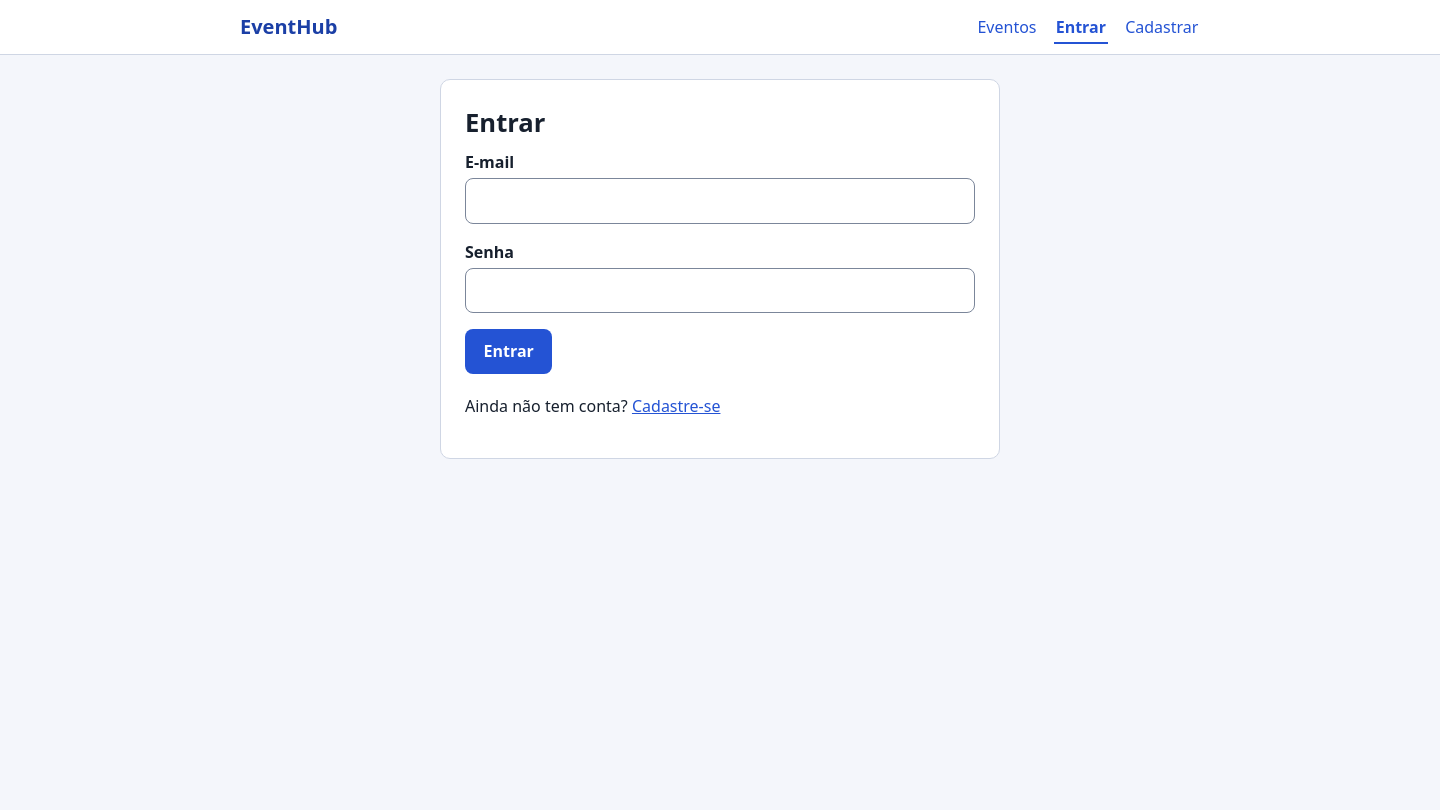
it: Administração de usuários › nega o pedido pendente: envia approved=false
This screenshot has width=1440, height=810.
Type "maria@example.com" into the field labelled "E-mail" at (720, 201), box x1=465 y1=178 x2=975 y2=224
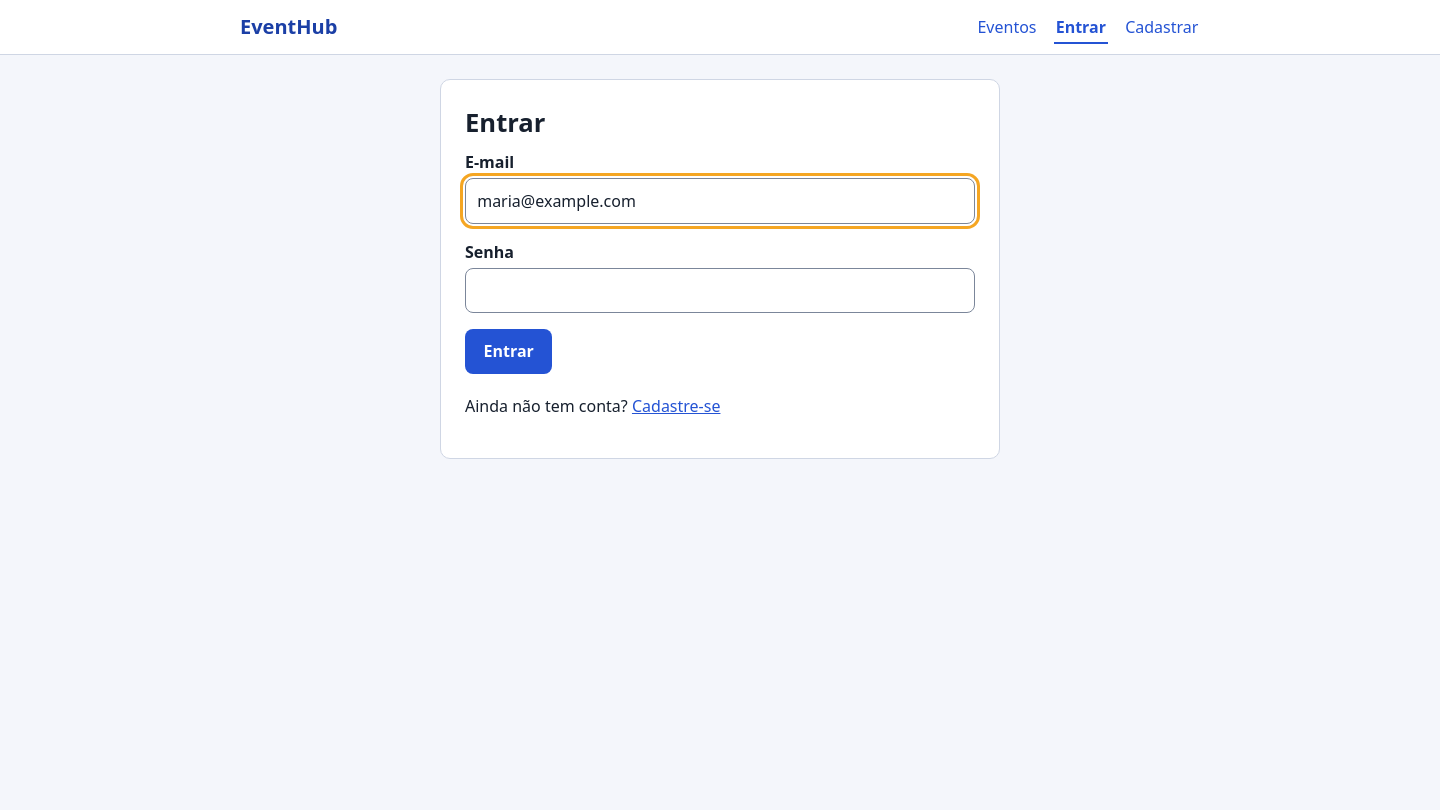
Type "senha-forte-123" into the password field labelled "Senha" at (720, 290), box x1=465 y1=268 x2=975 y2=313
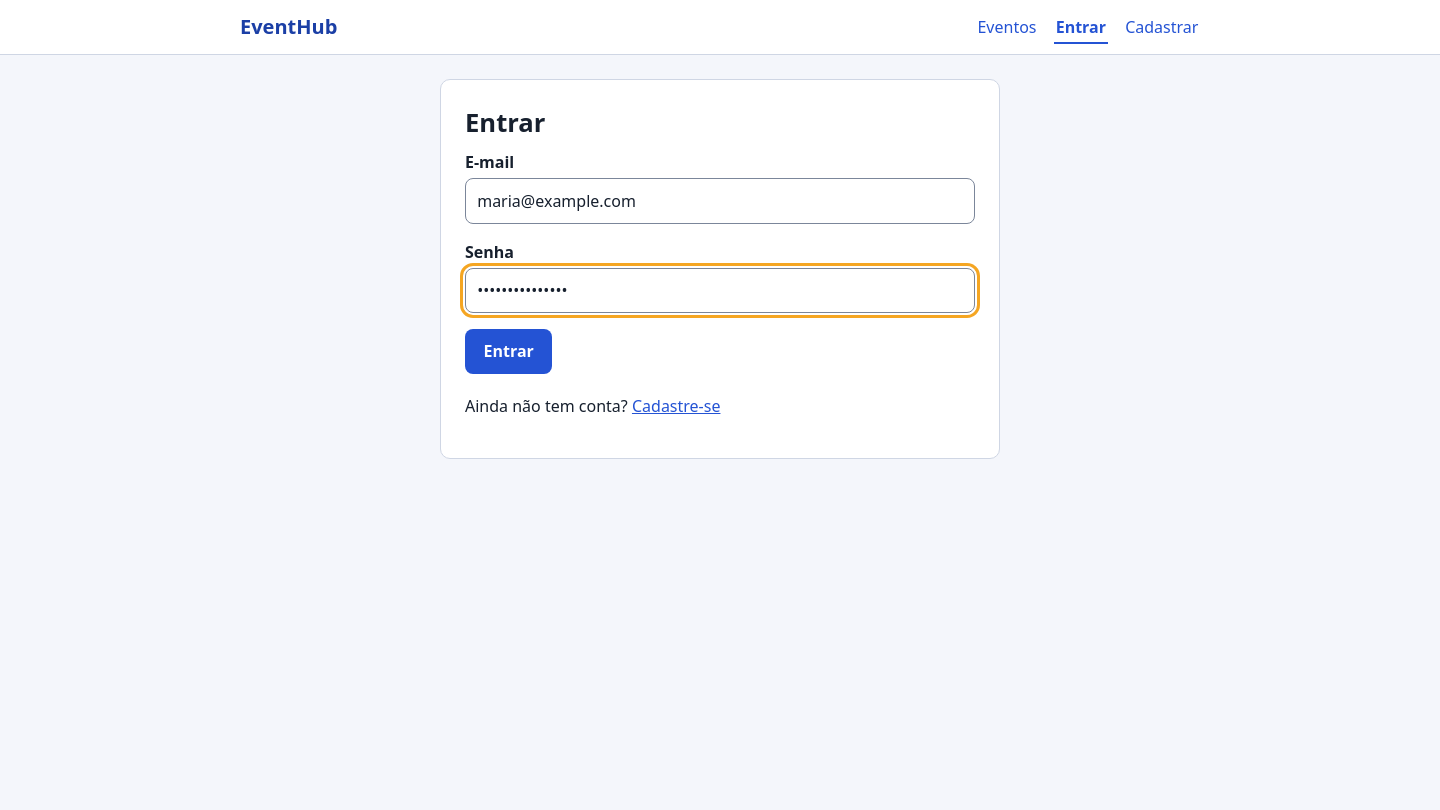
Click the button "Entrar" at (509, 351), box x1=465 y1=329 x2=552 y2=374
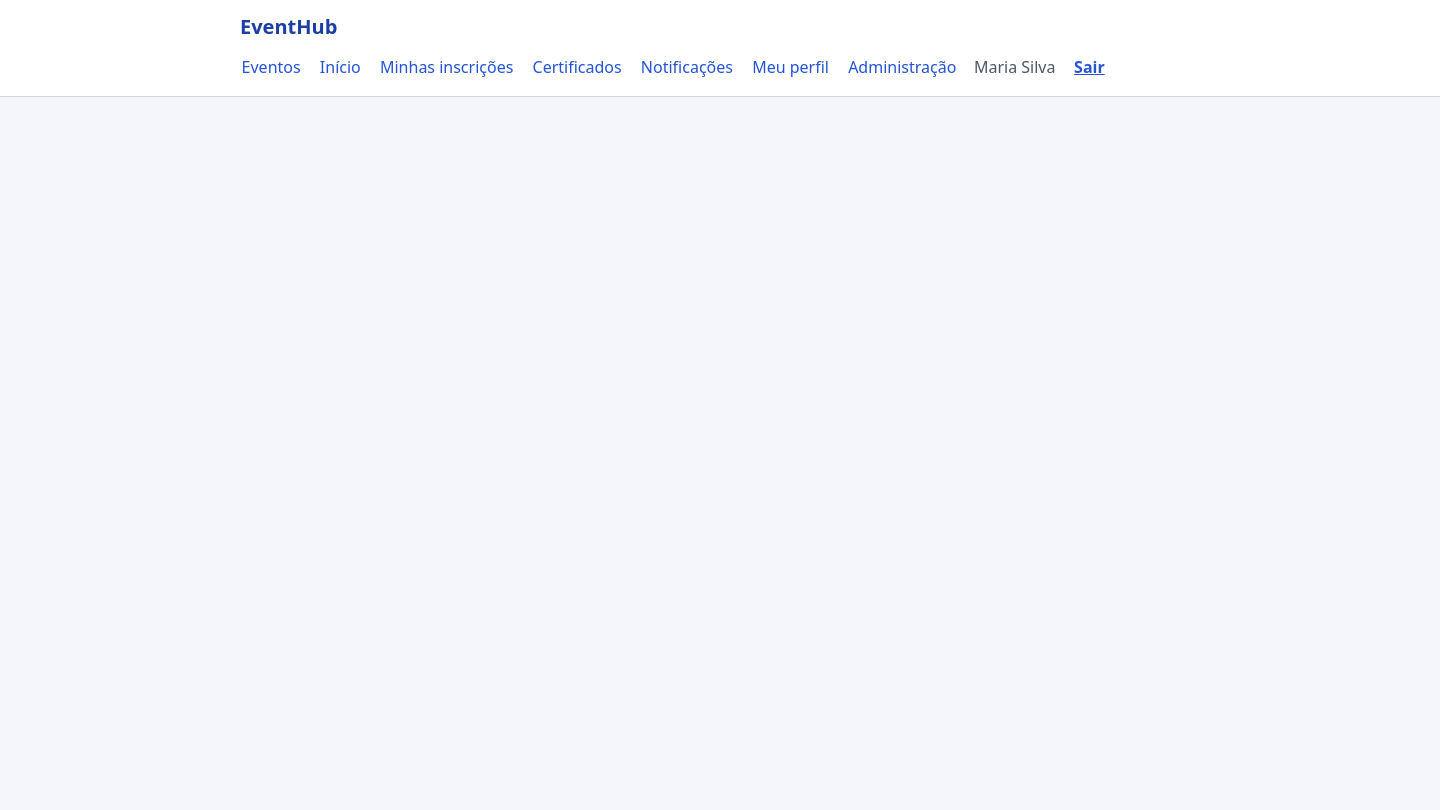
Click the link "Administração" at (902, 67), box x1=846 y1=52 x2=958 y2=82
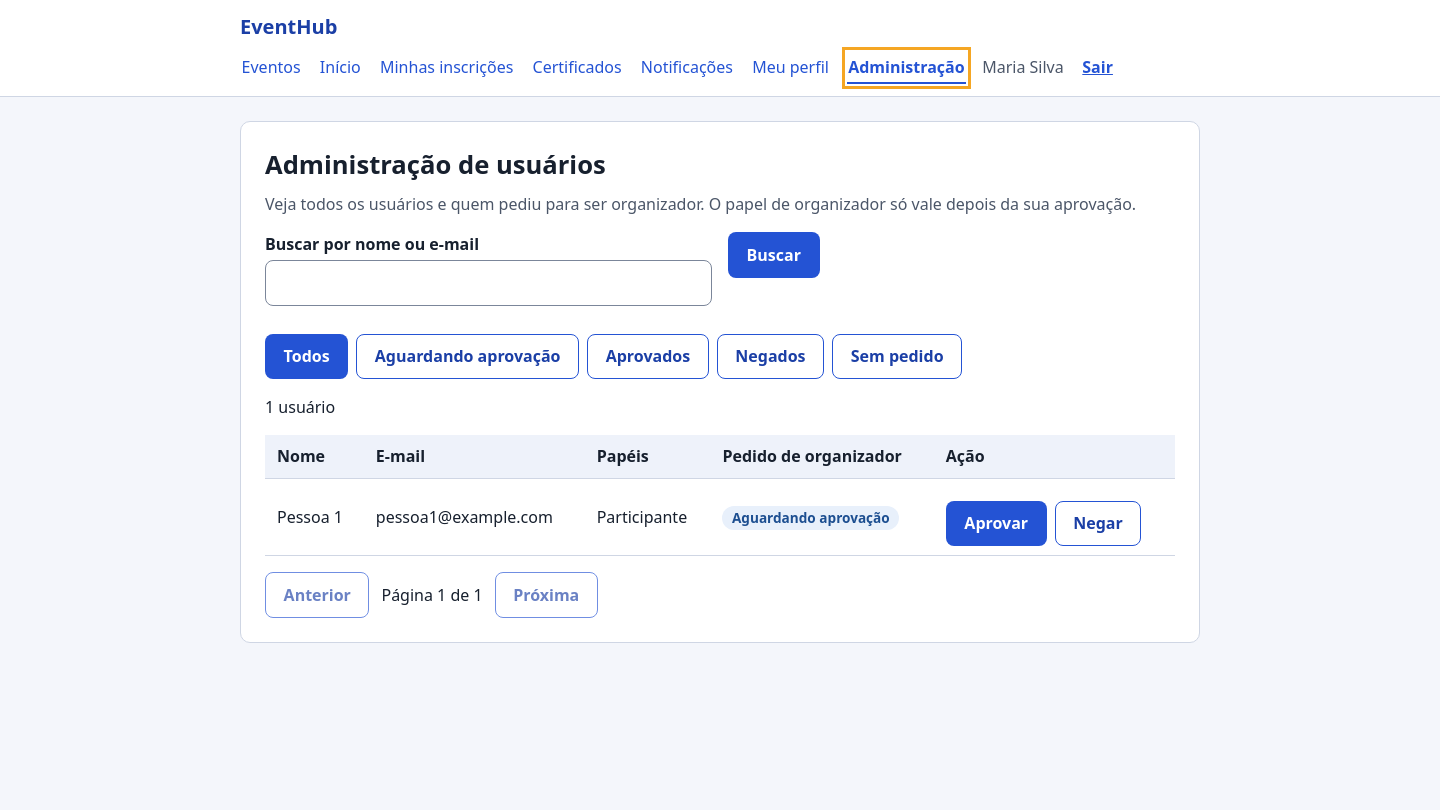
Now the heading "Administração de usuários" is shown, box x1=265 y1=147 x2=606 y2=182
Click the button with aria-label "Negar o pedido de Pessoa 1" at (1098, 523), box x1=1055 y1=500 x2=1141 y2=546
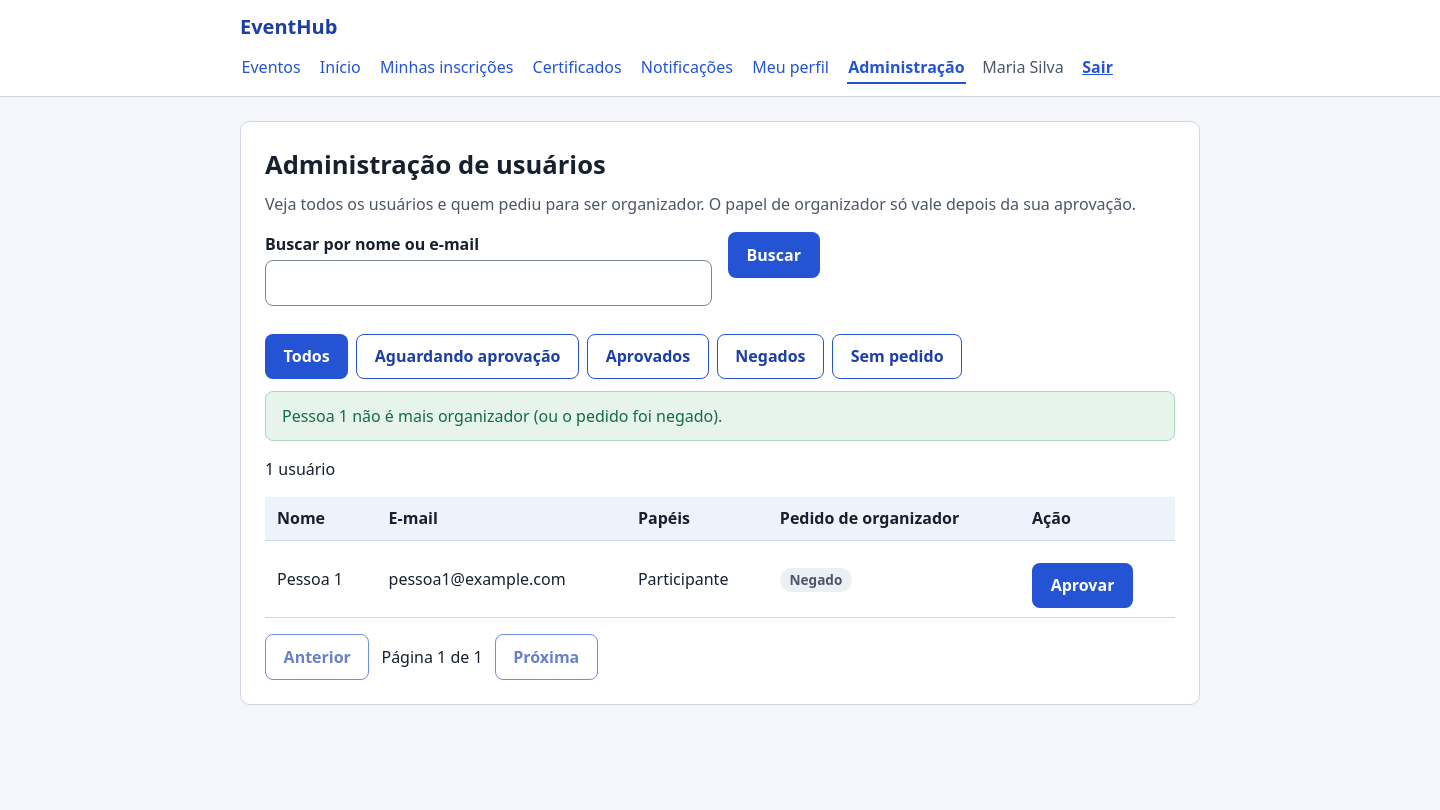
Now the text "Negado" is shown, box x1=780 y1=568 x2=852 y2=592
